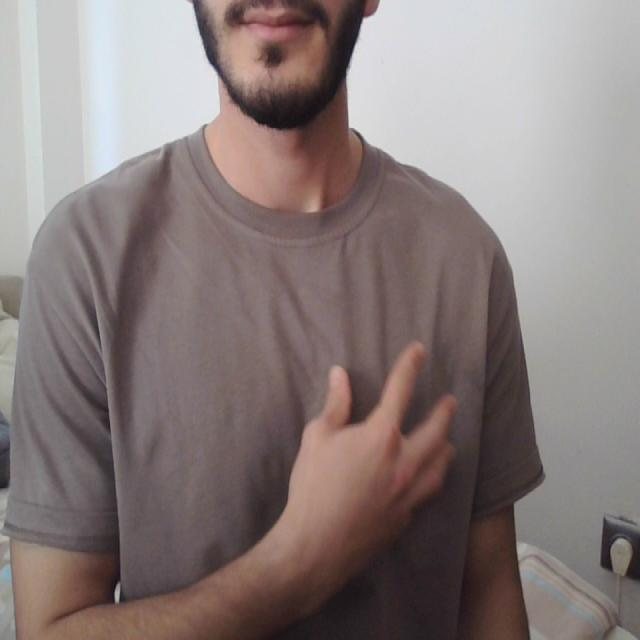Anne: (119, 327, 495, 589)
